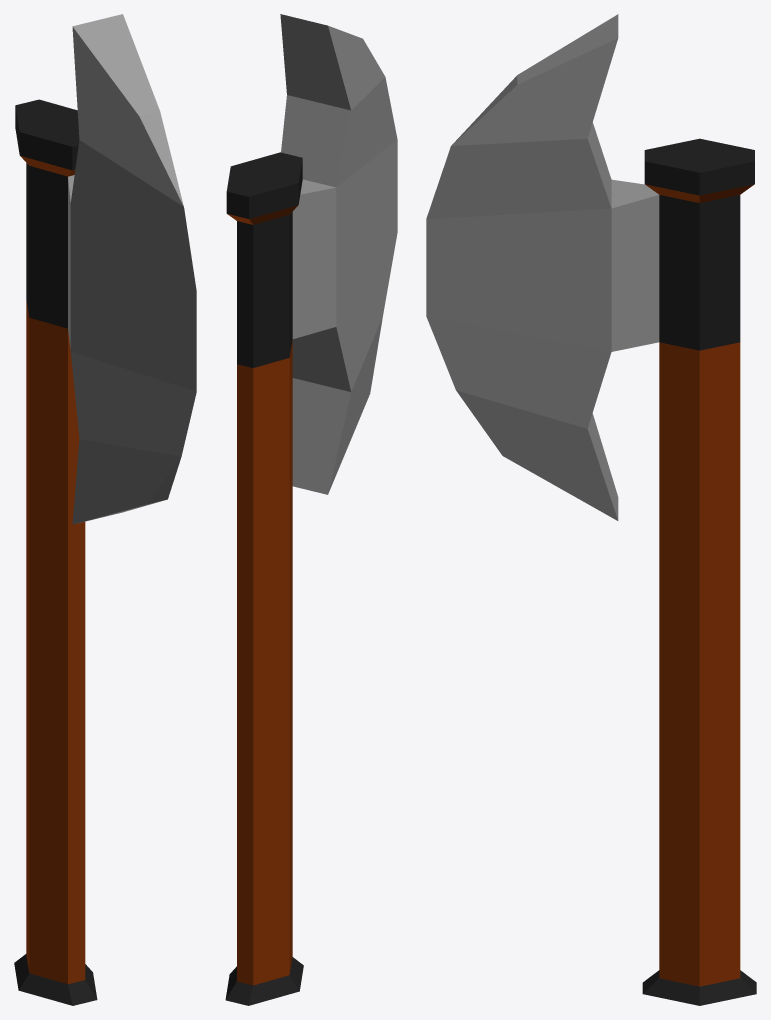
File: axe.obj
The picture shows the model from 3 angles, left to right: view 1: azimuth 30°, elevation 25°; view 2: azimuth 150°, elevation 25°; view 3: azimuth 270°, elevation 25°; orthographic projection. The views are drawn at different scales.
Visible parts, largest first — view 1: axe; view 2: axe; view 3: axe.
Boxes of the visible parts, x1,y1,x2,y2 form: axe: [14, 14, 196, 1005]; axe: [225, 14, 397, 1005]; axe: [426, 14, 756, 1005].
Size of the model in its own units: 0.0249 by 0.3169 by 0.0987.
